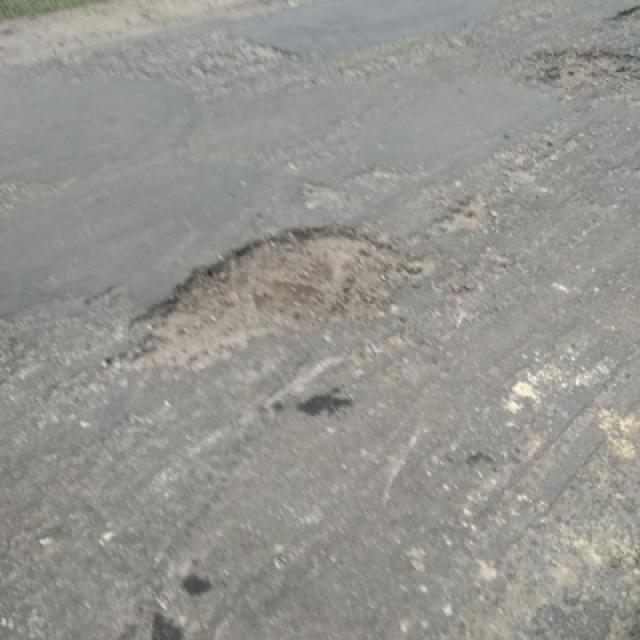jalan_berlubang: (131, 224, 407, 370)
